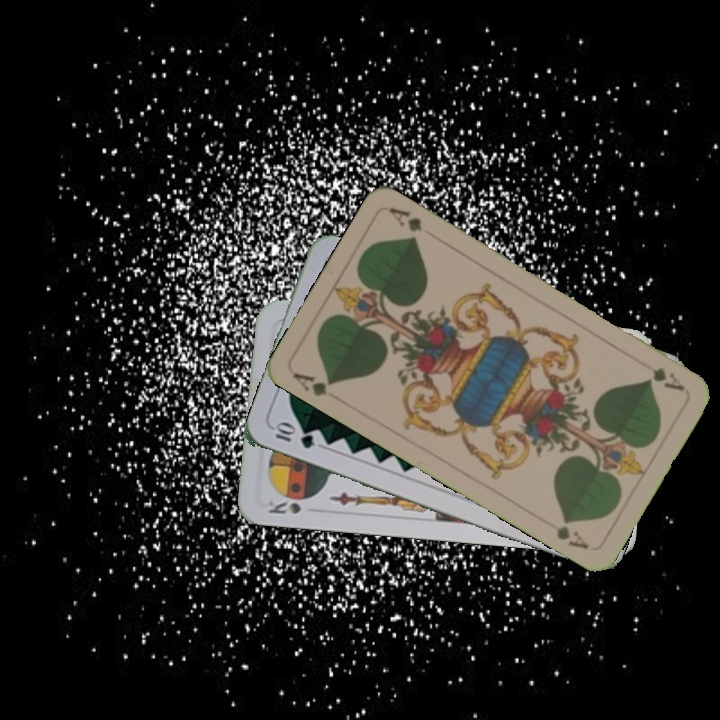G10: (271, 419, 317, 452)
GA: (634, 356, 687, 394), (288, 368, 338, 400)
SK: (262, 491, 318, 517)
